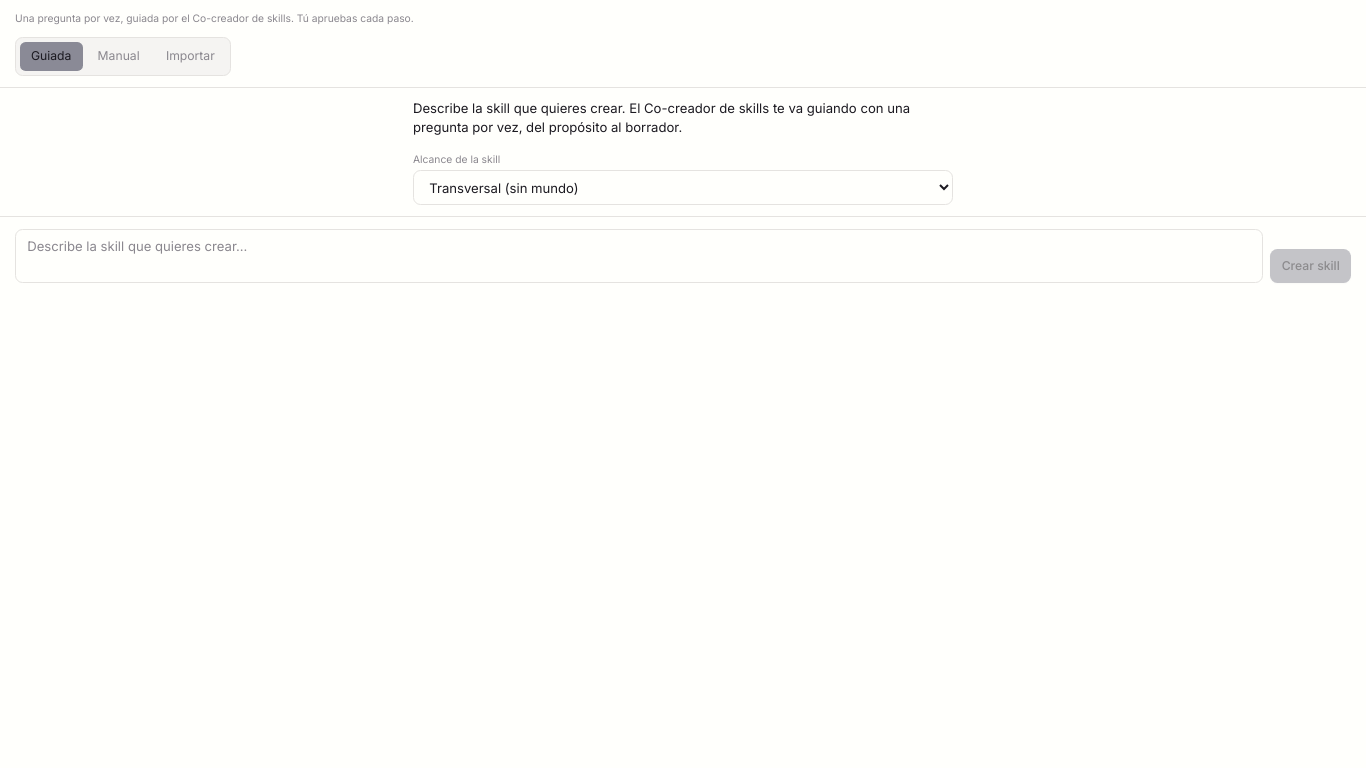
it: CoCreationPanel — authoring sub-modes (REQ-CC-1) › swaps the intro line per authoring sub-mode (UL-6 S1)
The width and height of the screenshot is (1366, 768).
Expected: the text "Una pregunta por vez, guiada por el Co-creador de skills. Tú apruebas cada paso." is shown, [15, 11, 414, 26]
Click the tab "Manual" at (119,56), box [86, 42, 151, 71]
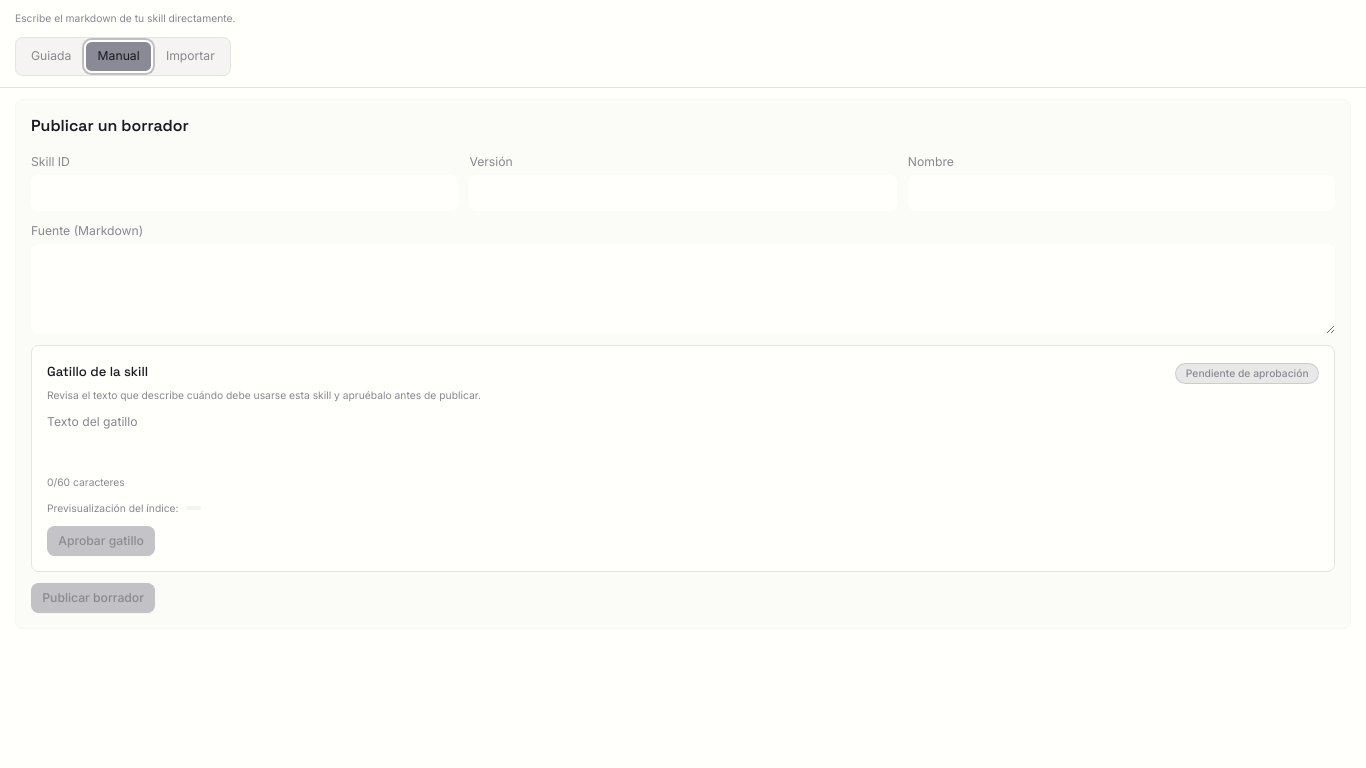
Expected: the text "Escribe el markdown de tu skill directamente." is shown, [15, 11, 236, 26]
Click the tab "Importar" at (190,56), box [155, 42, 226, 71]
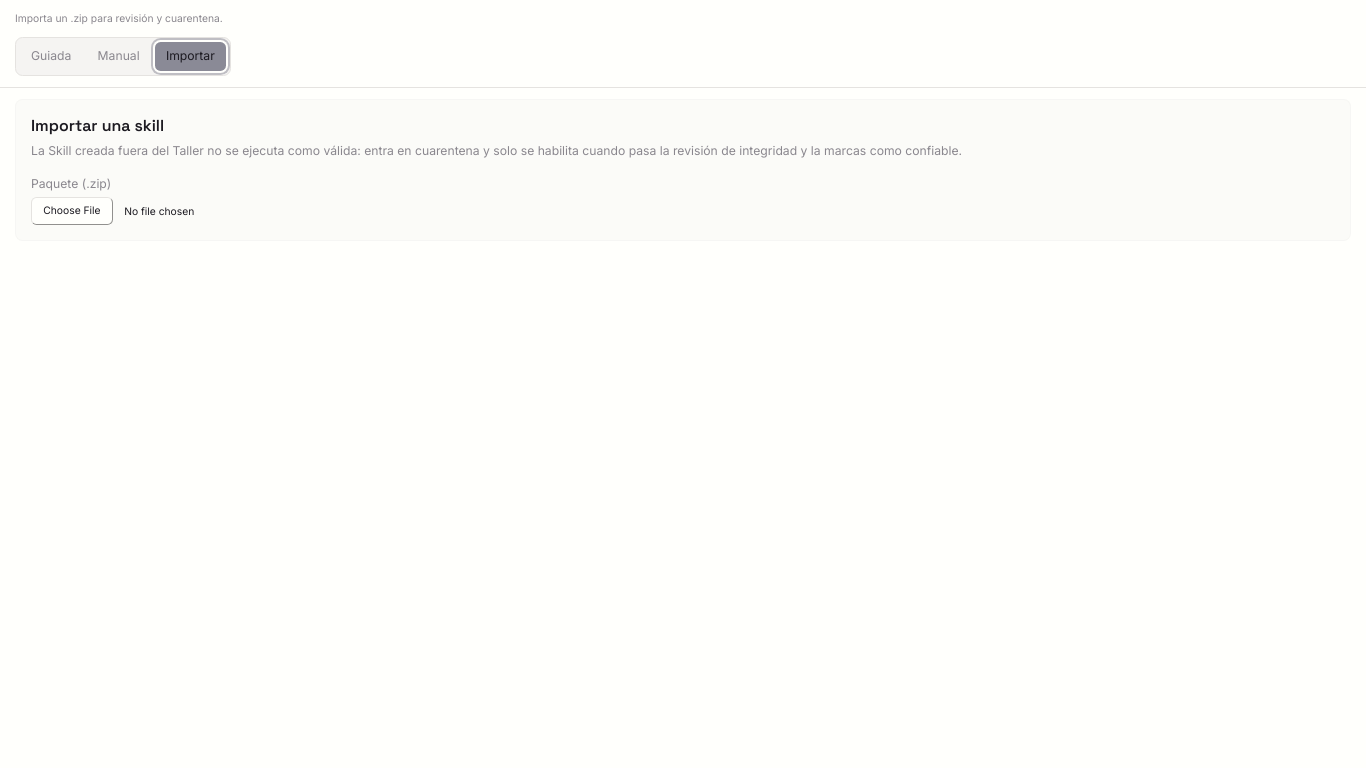
Expected: the text "Importa un .zip para revisión y cuarentena." is shown, [15, 11, 223, 26]
